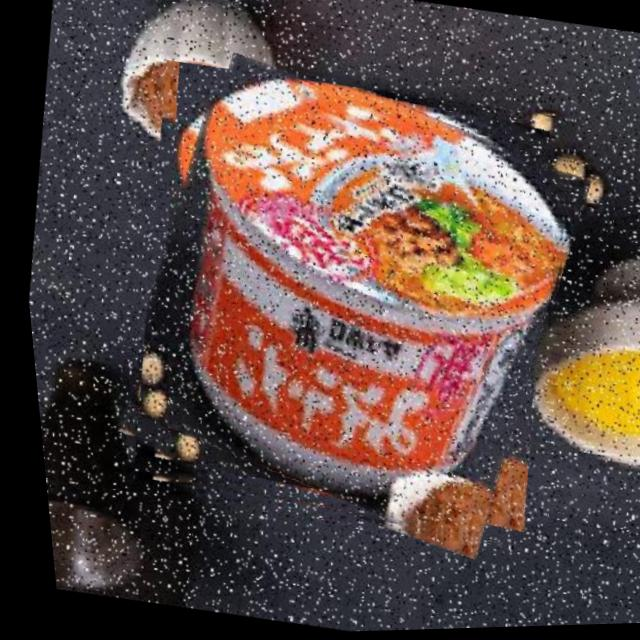Miscellaneous: (88, 50, 606, 565)
